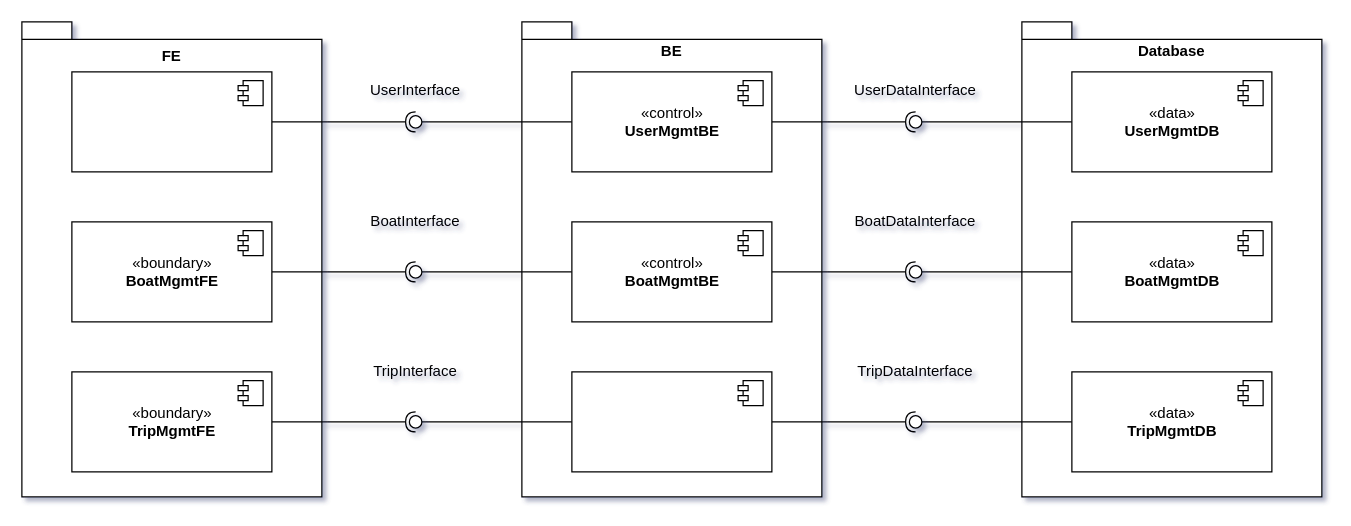
Some shapes in this 1351 by 526 pixel diagram are drawn without their labels. Here are the shapes that lost their labels. From the top down, the centre of each, then its label:
(171,121): «boundary» UserMgmtFE
(671,421): «control» TripMgmtBE
